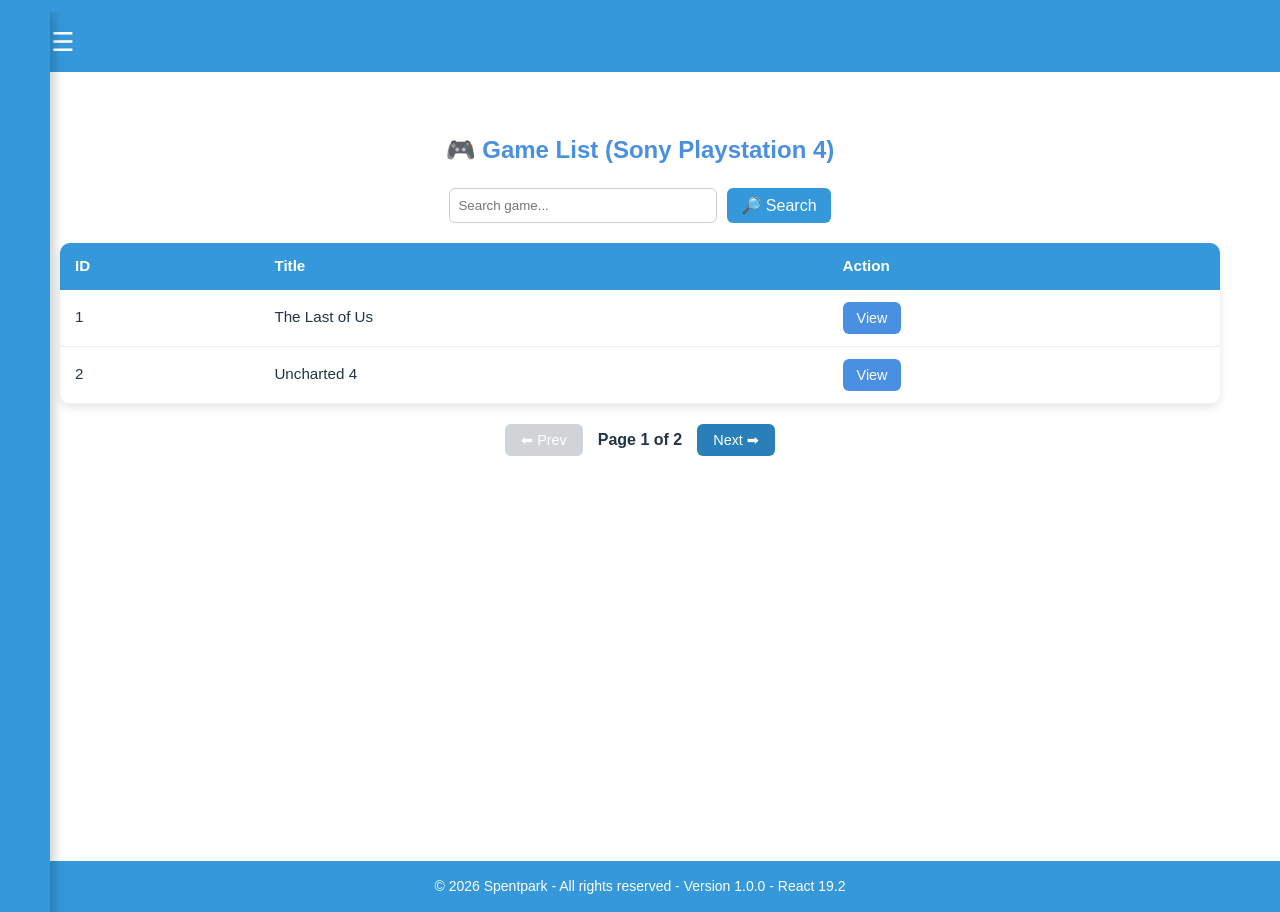
Test case: App / Home › limpia búsqueda al presionar clear
The width and height of the screenshot is (1280, 912).
Type "test" into the field with placeholder "Search game...". click: (583, 205)
box: [449,188,717,223]
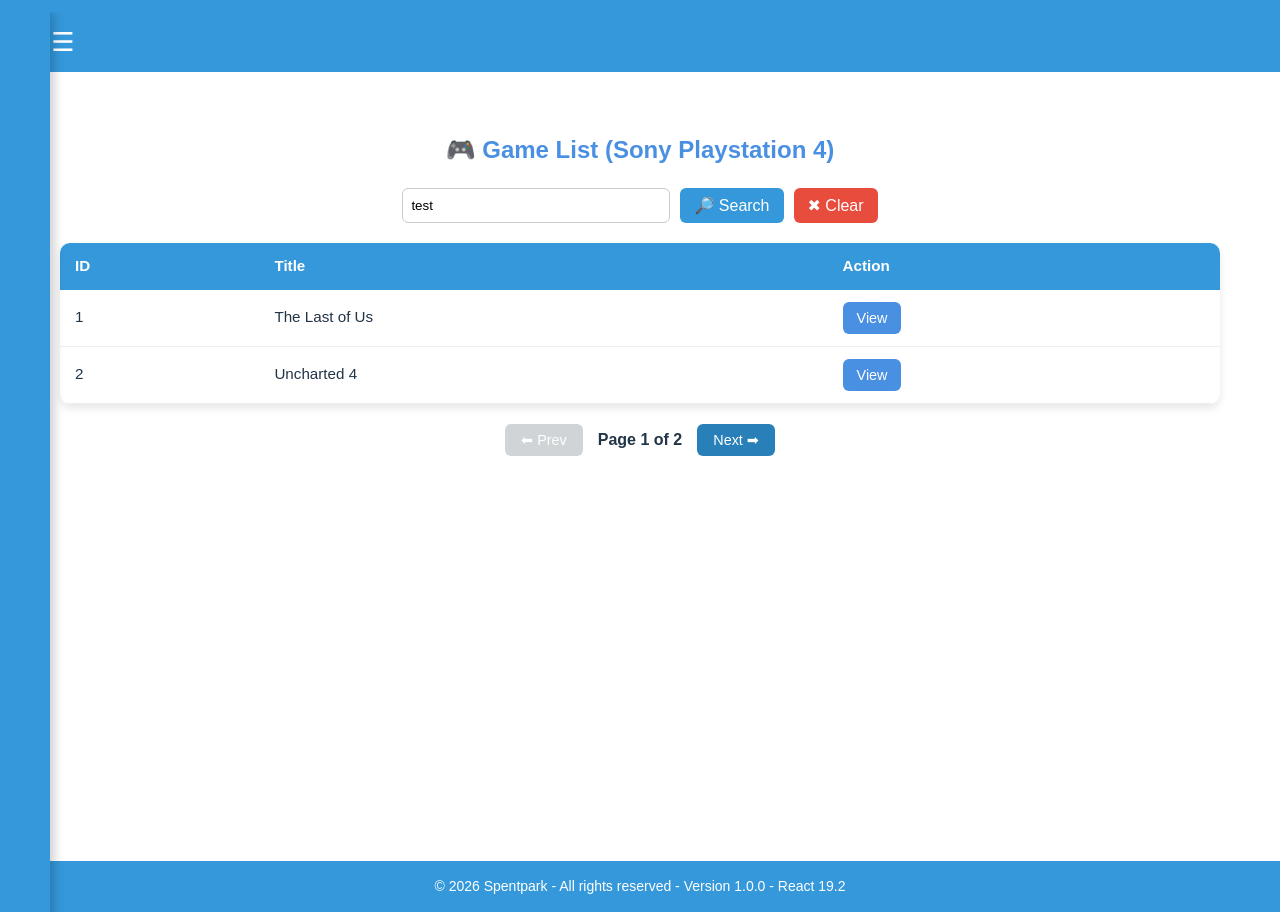
Click the button "✖ Clear". click: (836, 205)
box: [794,188,878,223]
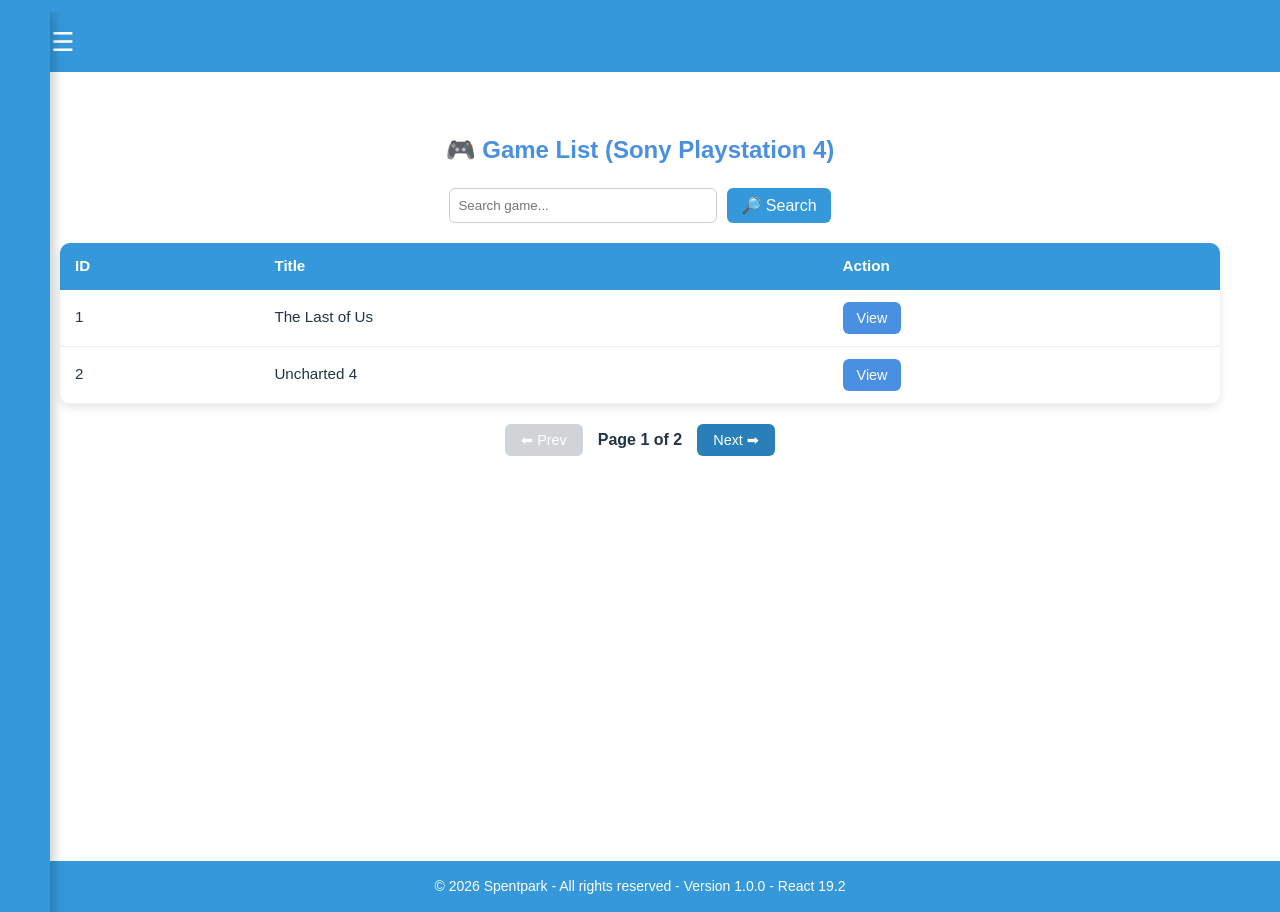
Check: the field with placeholder "Search game..." is empty, box [449,188,717,223]
